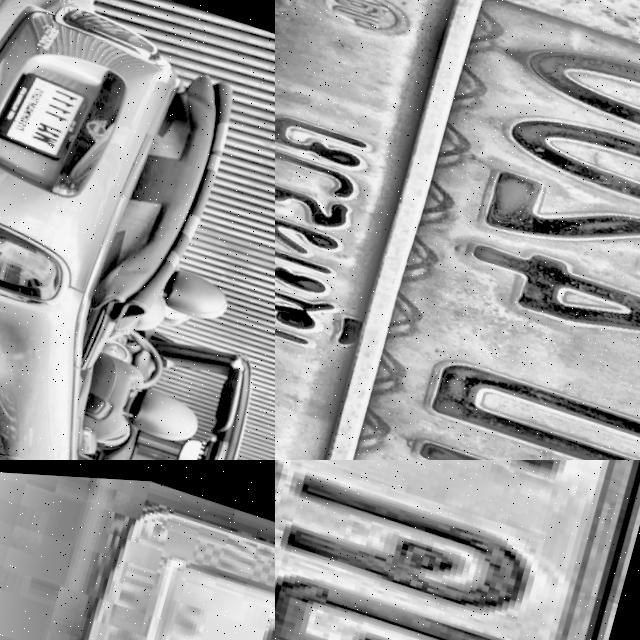license-plate: (275, 0, 640, 460), (275, 460, 640, 640), (0, 466, 275, 640), (0, 56, 98, 169)
